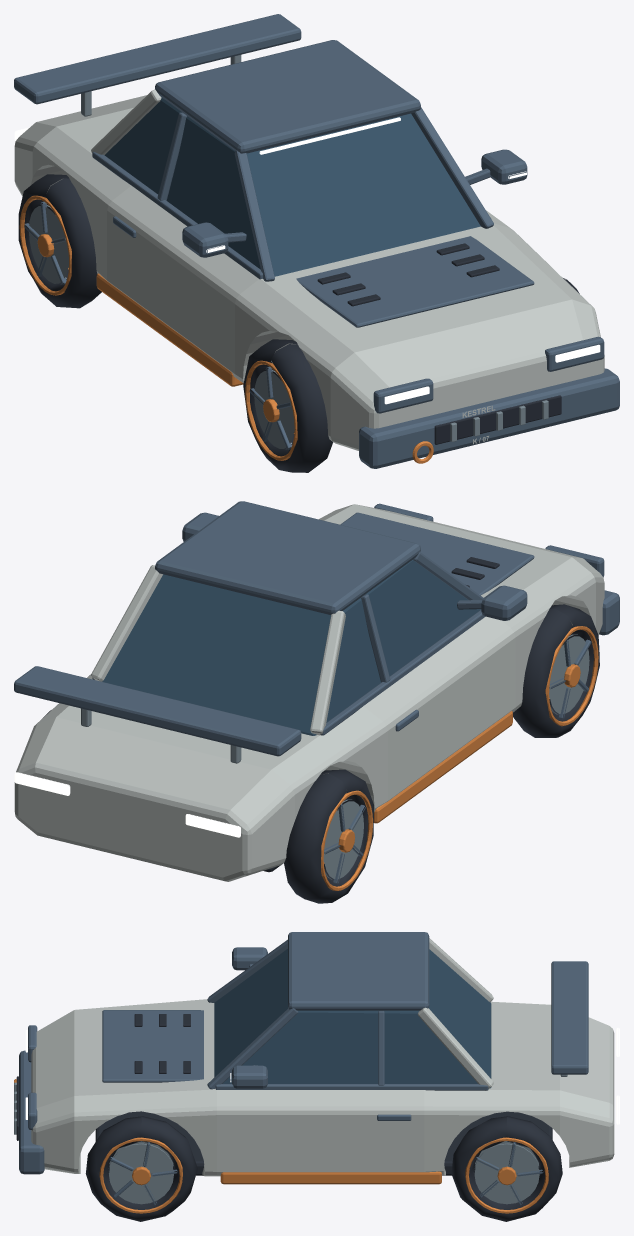
The model's file is coupe.glb.
The picture shows the model from 3 angles, top to bottom: view 1: azimuth 30°, elevation 25°; view 2: azimuth 150°, elevation 25°; view 3: azimuth 270°, elevation 25°; orthographic projection. The views are drawn at different scales.
Parts seen in each view (by area): view 1: Body, Wheel_FL, Wheel_RL, Signal; view 2: Body, Wheel_RL, Wheel_FL, Signal; view 3: Body, Wheel_FR, Wheel_RR, Signal.
Boxes of the visible parts, left/top/right/bottom form: Body: left=14, top=14, right=619, bottom=468; Wheel_FL: left=243, top=339, right=333, bottom=472; Wheel_RL: left=18, top=174, right=101, bottom=308; Signal: left=14, top=117, right=600, bottom=404; Body: left=14, top=501, right=619, bottom=881; Wheel_RL: left=284, top=769, right=374, bottom=903; Wheel_FL: left=513, top=604, right=599, bottom=737; Signal: left=14, top=772, right=240, bottom=837; Body: left=14, top=932, right=614, bottom=1184; Wheel_FR: left=85, top=1116, right=197, bottom=1221; Wheel_RR: left=451, top=1116, right=562, bottom=1221; Signal: left=25, top=953, right=619, bottom=1124.
Size of the model in its own units: 2.15 by 1.55 by 4.24.
